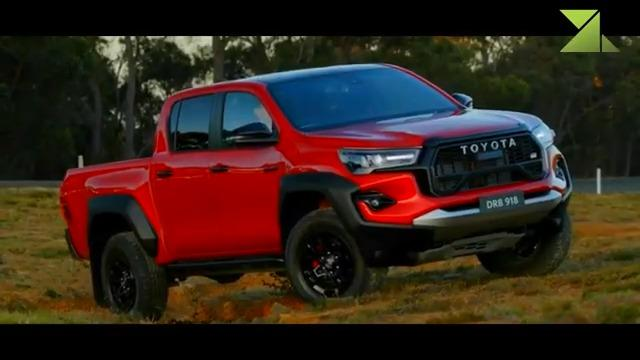MIL_HMMWV: (59, 60, 574, 322)
